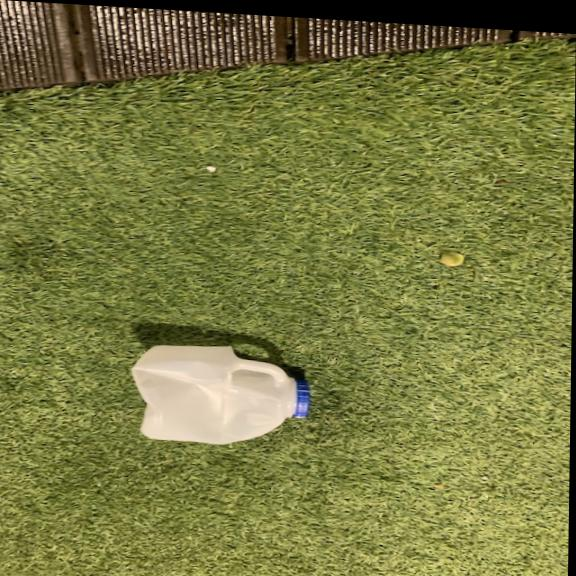Plastik: (127, 339, 316, 453)
